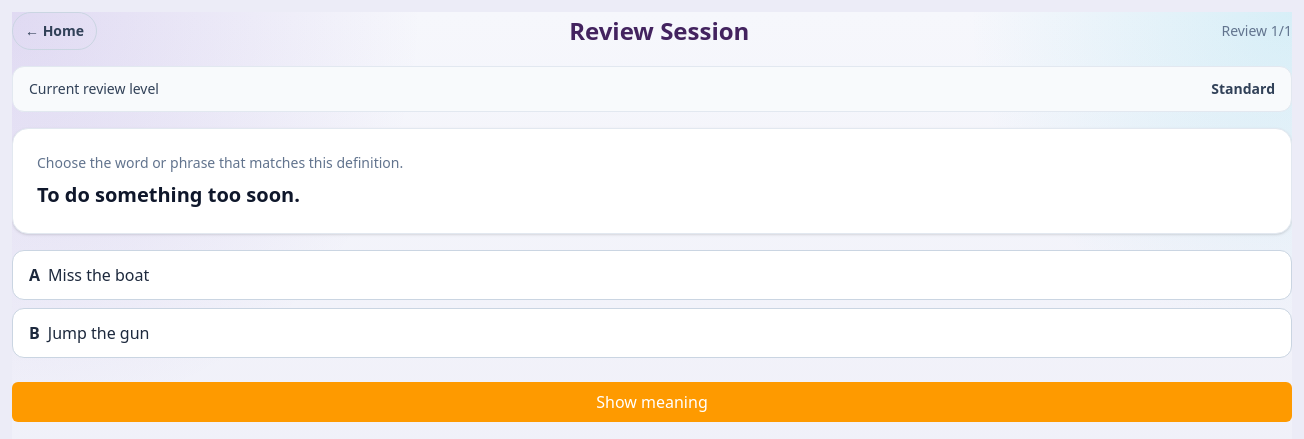
Scenario: ReviewPage › shows the relearn step after a wrong answer
Click the button named "a miss the boat".
click(99, 275)  # box [12,250,1292,300]
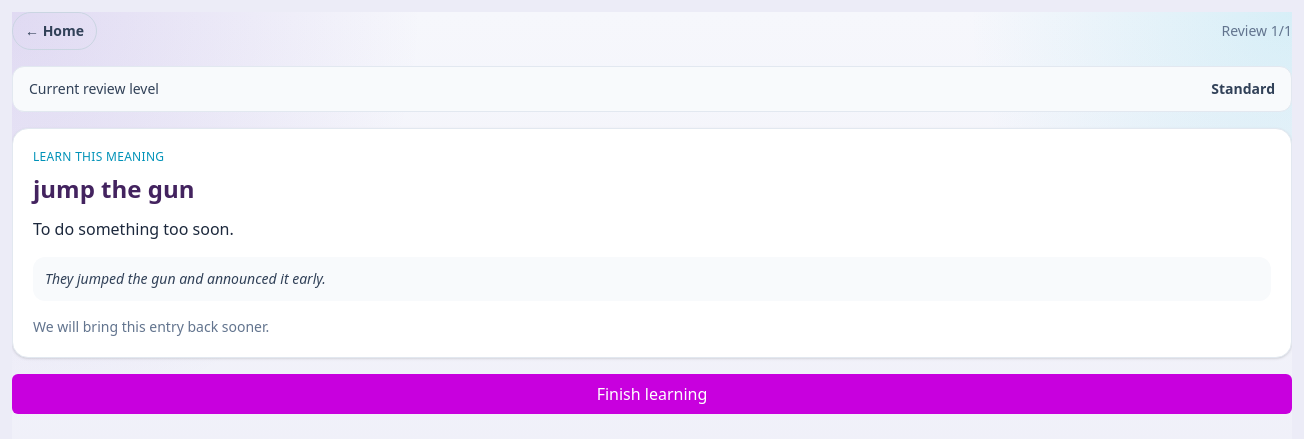
Expected: the heading "jump the gun" is shown, [33,172,194,205]
Expected: the element with test id "review-relearn-state" is shown
Expected: the button "Finish learning" is shown, [12,374,1292,414]
